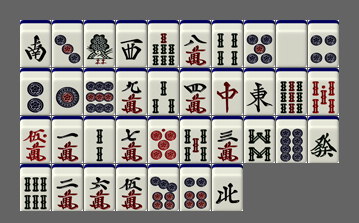0m: (20, 116, 51, 163)
0p: (148, 116, 179, 163)
0s: (308, 68, 339, 115)
1m: (52, 116, 83, 163)
1p: (52, 68, 83, 115)
1s: (84, 20, 115, 67)
1z: (244, 68, 275, 115)
2m: (52, 164, 83, 211)
2p: (20, 68, 51, 115)
2s: (84, 116, 115, 163)
2z: (20, 20, 51, 67)
3m: (212, 116, 243, 163)
3p: (52, 20, 83, 67)
3s: (148, 68, 179, 115)
3z: (116, 20, 147, 67)
4m: (180, 68, 211, 115)
4p: (308, 20, 339, 67)
4s: (212, 20, 243, 67)
4z: (212, 164, 243, 211)
5m: (116, 164, 147, 211)
5p: (244, 20, 275, 67)
5s: (180, 116, 211, 163)
5z: (276, 20, 307, 67)
6m: (84, 164, 115, 211)
6p: (180, 164, 211, 211)
6s: (20, 164, 51, 211)
6z: (308, 116, 339, 163)
7m: (116, 116, 147, 163)
7p: (148, 164, 179, 211)
7s: (148, 20, 179, 67)
7z: (212, 68, 243, 115)
8m: (180, 20, 211, 67)
8p: (276, 116, 307, 163)
8s: (244, 116, 275, 163)
9m: (116, 68, 147, 115)
9p: (84, 68, 115, 115)
9s: (276, 68, 307, 115)
